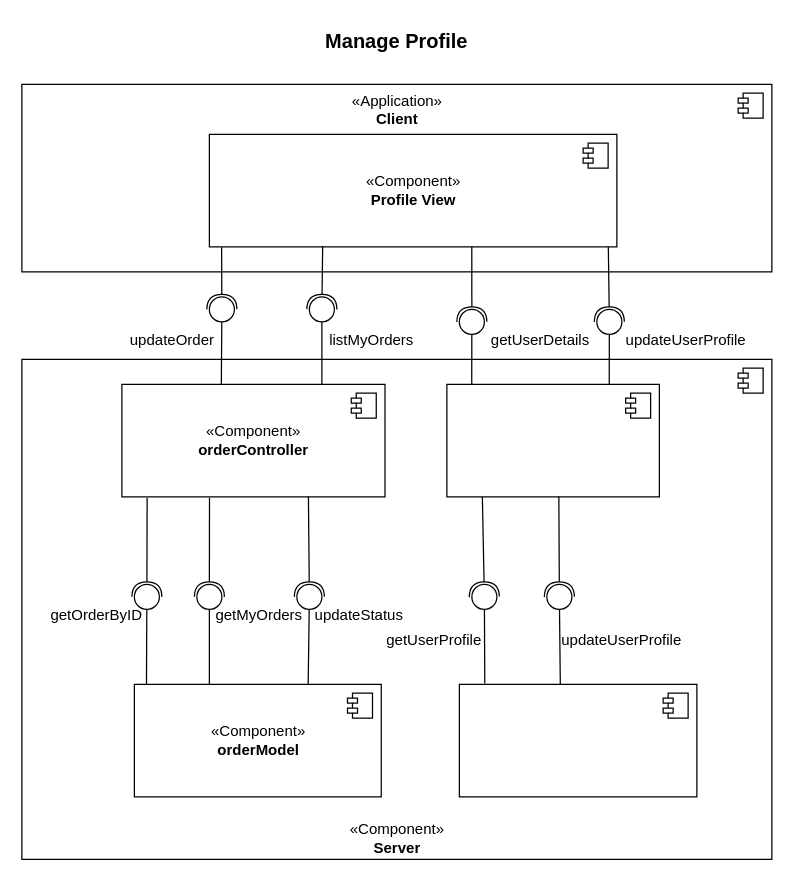
Some shapes in this 794 by 881 pixel diagram are drawn without their labels. The centre of each missing label's shape, as x and y in pixels:
«Component» User Controller: pixel 552 440
«Component» User Model: pixel 577 740
